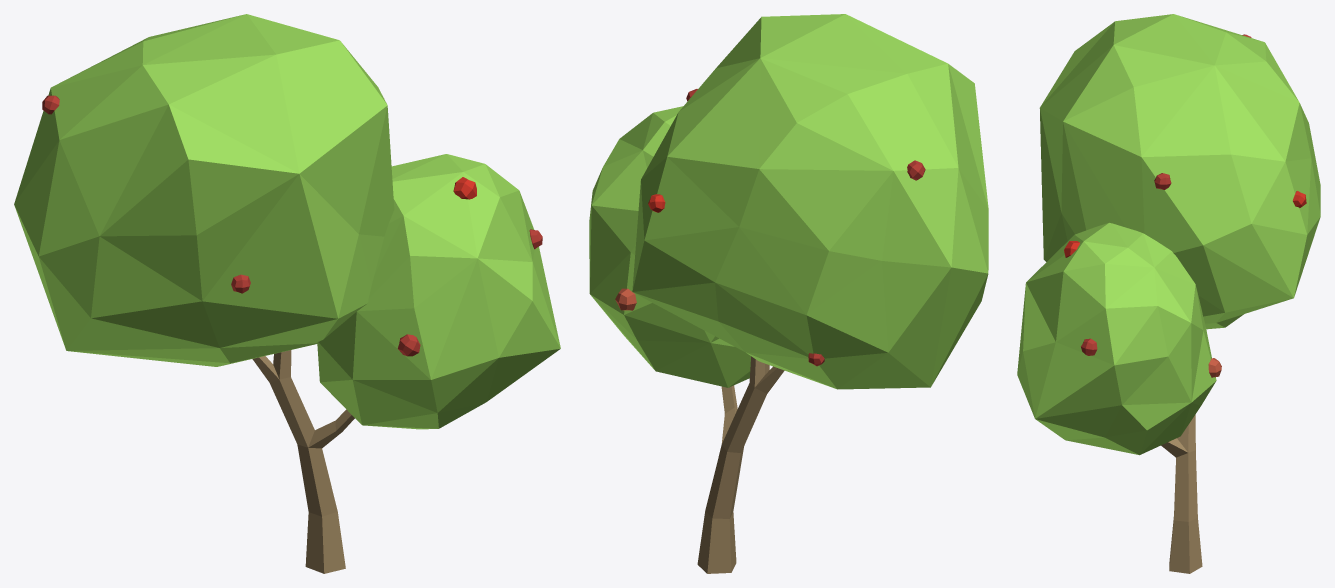
Rendered from Apple_Tree_Apples_m_06_LOD.fbx.
The picture shows the model from 3 angles, left to right: view 1: azimuth 30°, elevation 25°; view 2: azimuth 150°, elevation 25°; view 3: azimuth 270°, elevation 25°; orthographic projection. The views are drawn at different scales.
Parts seen in each view (by area): view 1: Apple_Tree_Apples_m_06_LOD0; view 2: Apple_Tree_Apples_m_06_LOD0; view 3: Apple_Tree_Apples_m_06_LOD0.
Boxes of the visible parts, box(x1,y1,x2,y2) form: Apple_Tree_Apples_m_06_LOD0: box(14, 14, 560, 573); Apple_Tree_Apples_m_06_LOD0: box(589, 14, 988, 573); Apple_Tree_Apples_m_06_LOD0: box(1017, 14, 1320, 573).
Size of what is drawn, in the model's own units: 620 by 736 by 419.
